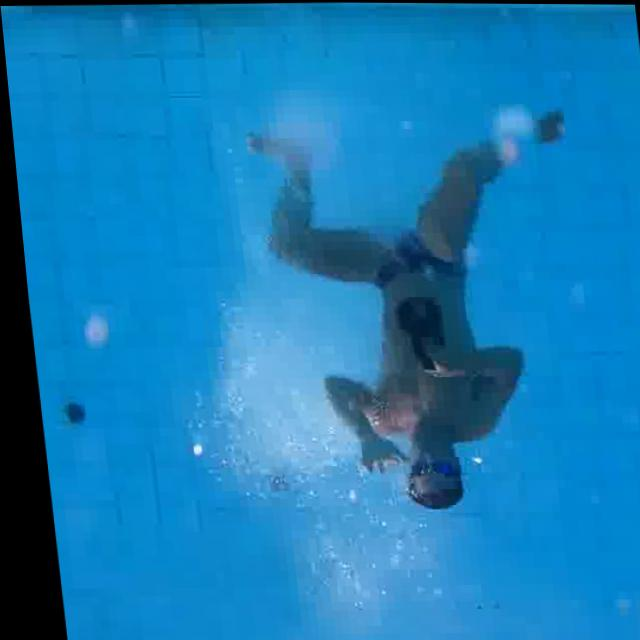human: (235, 94, 600, 520)
